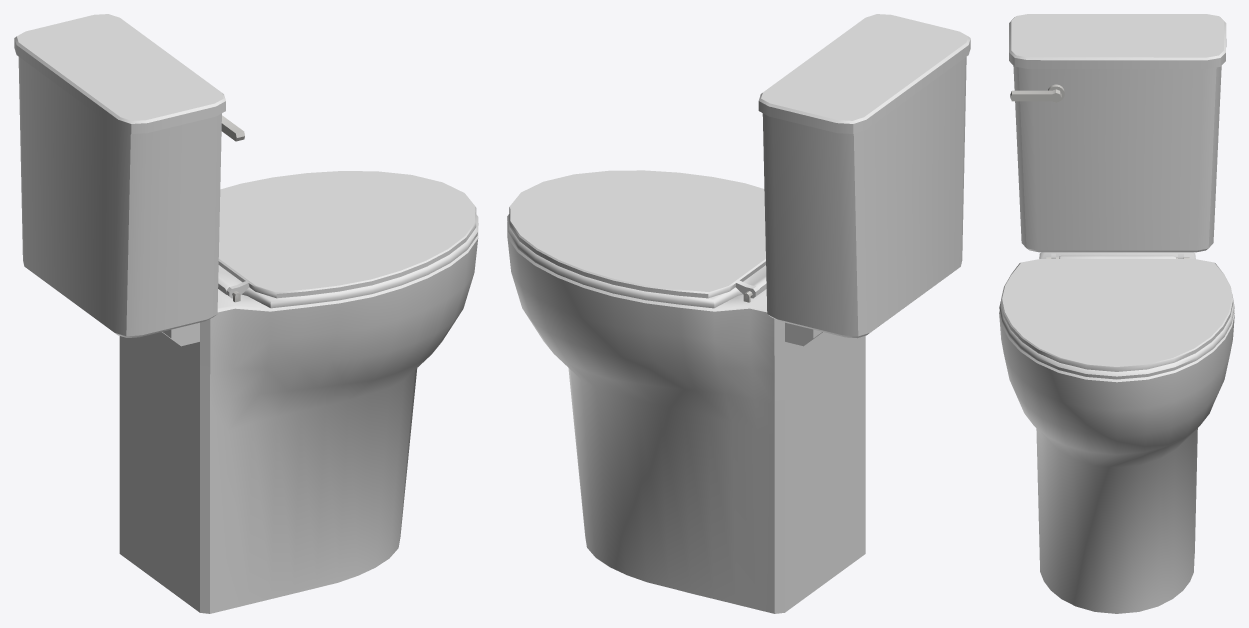
Rendered from toilet.glb.
The picture shows the model from 3 angles, left to right: view 1: azimuth 30°, elevation 25°; view 2: azimuth 150°, elevation 25°; view 3: azimuth 270°, elevation 25°; orthographic projection. The views are drawn at different scales.
Visible parts, largest first — view 1: Cylinder.001; view 2: Cylinder.001; view 3: Cylinder.001.
Part boxes in pixels (x1,y1,x2,y2): Cylinder.001: (14,14,478,613); Cylinder.001: (507,14,970,613); Cylinder.001: (999,14,1234,613).
Bounding box in the file's own units: 0.5876 × 0.7392 × 0.3422.
Materials: 1 (1 with a texture image).
